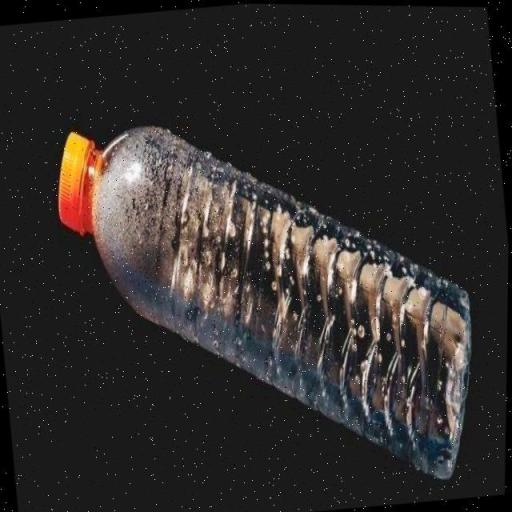plastic: (44, 82, 494, 512)
